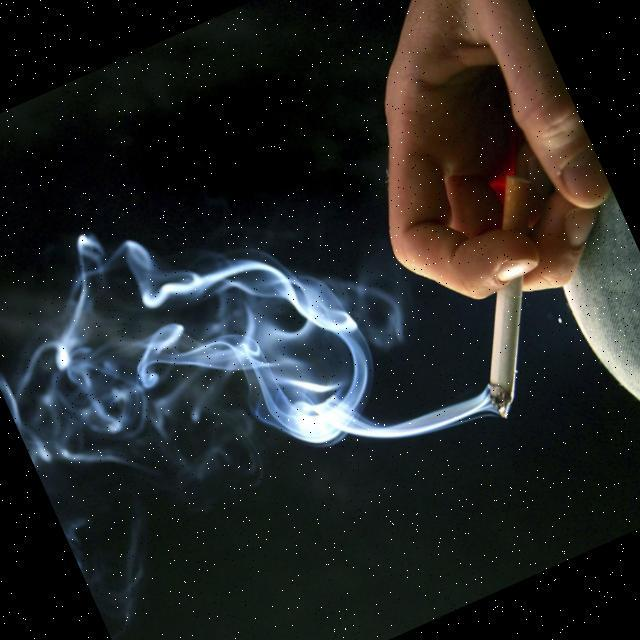cigarette: (399, 150, 606, 421)
